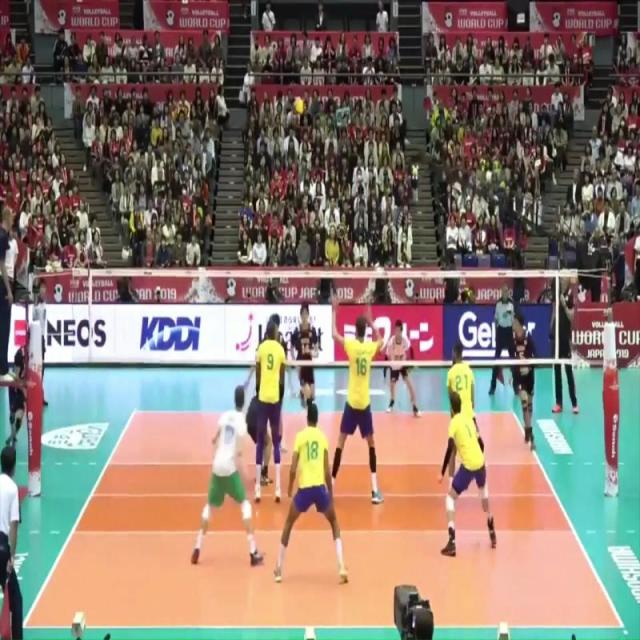volleyball: (296, 107, 312, 133)
